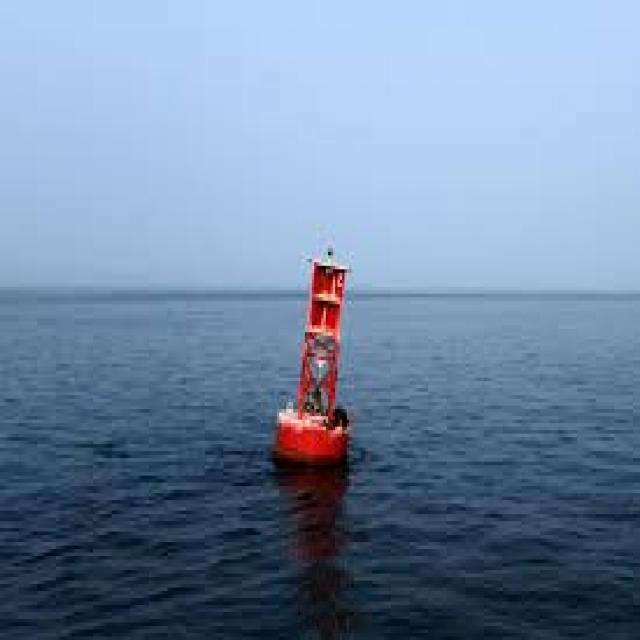buoy: (276, 249, 348, 459)
